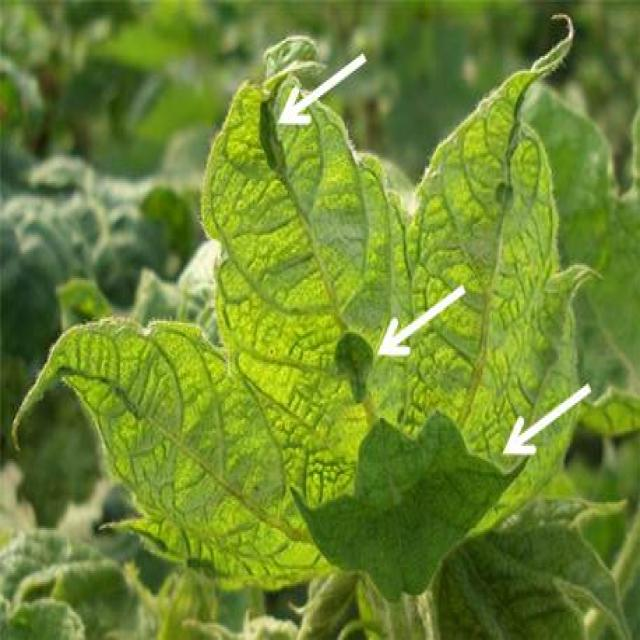Leaf Curl Virus: (264, 290, 528, 604)
